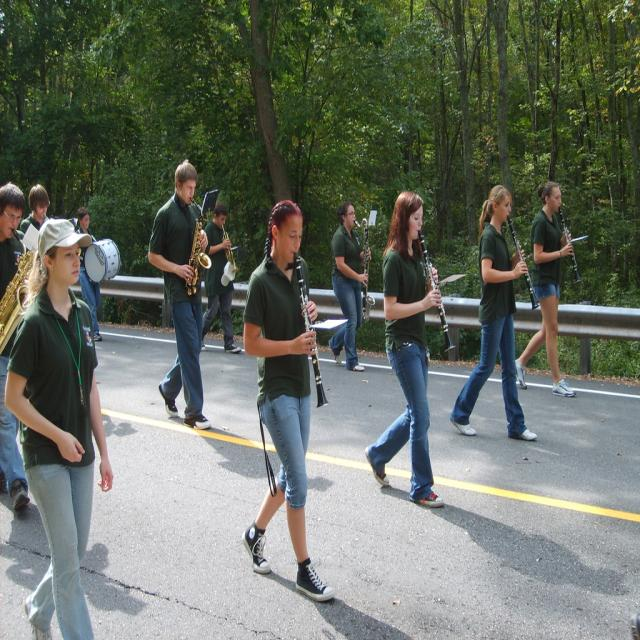clarinet: (294, 253, 330, 409), (416, 228, 457, 355), (506, 214, 540, 312), (558, 206, 582, 284)
